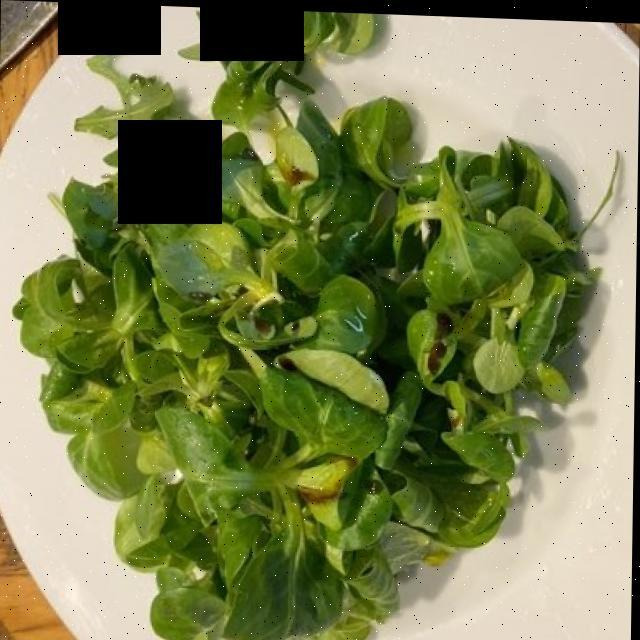salad: (26, 59, 588, 637)
